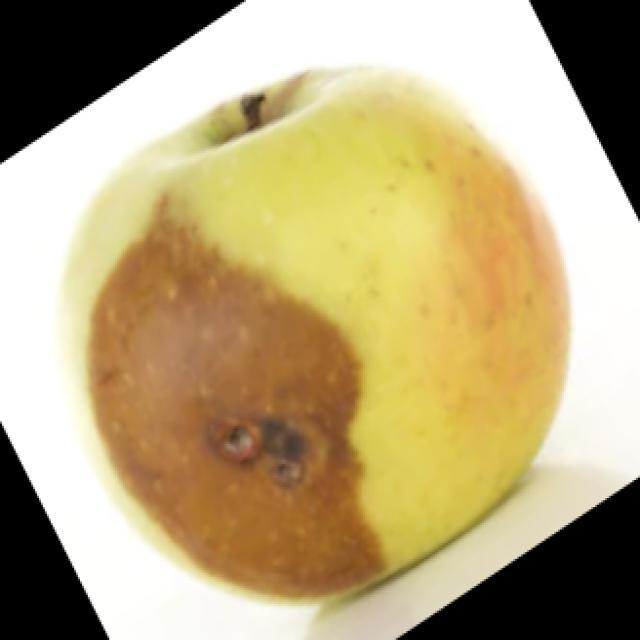Rotten: (67, 66, 565, 606)
